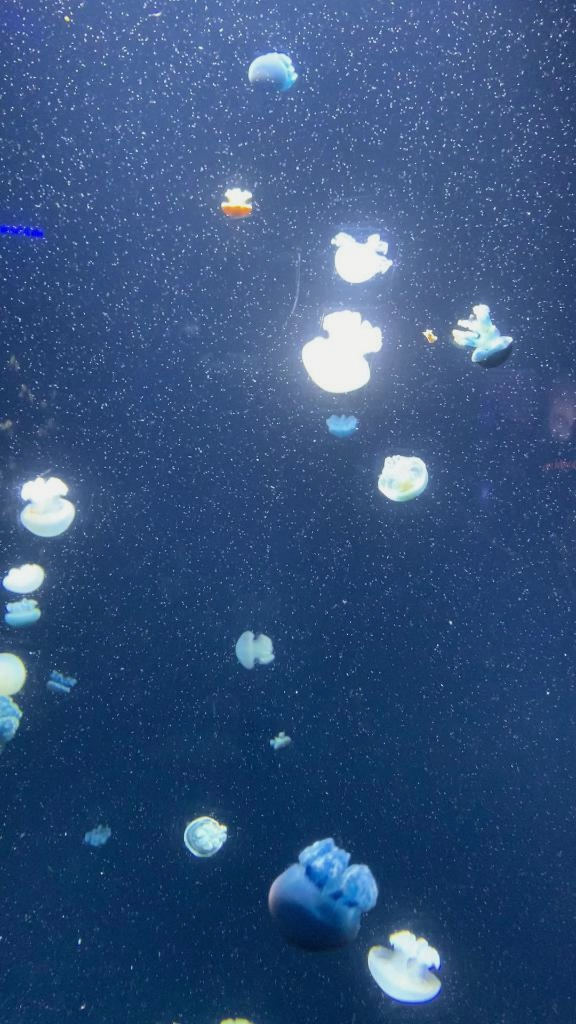jellyfish: (266, 839, 374, 955), (299, 310, 382, 398), (366, 932, 446, 1004), (452, 302, 516, 372), (21, 479, 75, 537), (332, 233, 392, 285), (375, 454, 431, 502), (182, 815, 228, 863), (248, 55, 298, 95), (234, 628, 272, 670), (3, 564, 45, 596), (0, 651, 27, 698), (220, 188, 254, 220), (4, 602, 42, 630), (326, 418, 360, 436), (85, 828, 109, 848), (46, 679, 72, 697), (274, 734, 292, 750)
